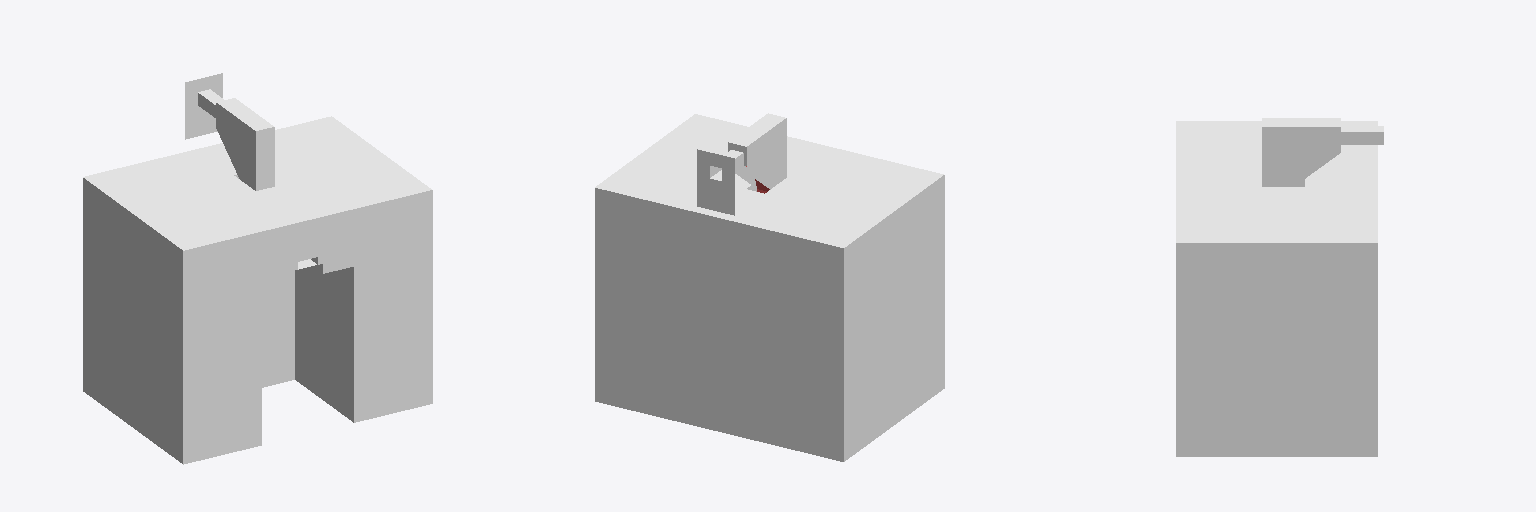
File: Shifting Sand Land Area 3.obj
3 views of the same model, side by side, from view 1: azimuth 30°, elevation 25°; view 2: azimuth 150°, elevation 25°; view 3: azimuth 270°, elevation 25° (orthographic).
Size of the model in its own units: 10238 by 11004 by 7398.